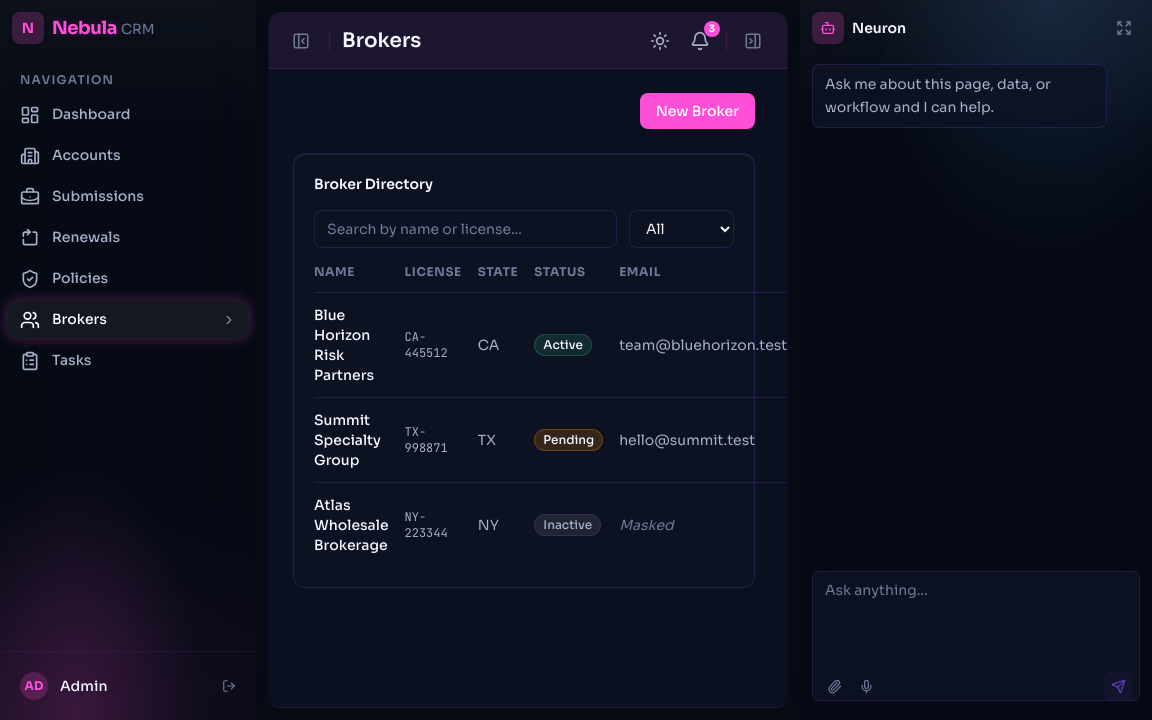
Test: BrokerListPage integration › loads brokers from the shared MSW harness and filters them by search and status
This screenshot has width=1152, height=720.
Expected: the heading "Broker Directory" is shown, 314,174 -> 433,194
Expected: the link "Blue Horizon Risk Partners" is shown, 314,306 -> 374,384
Type "summit" into the field named "Search brokers".
click(466, 229); type("summit")  # box 314,210 -> 617,248
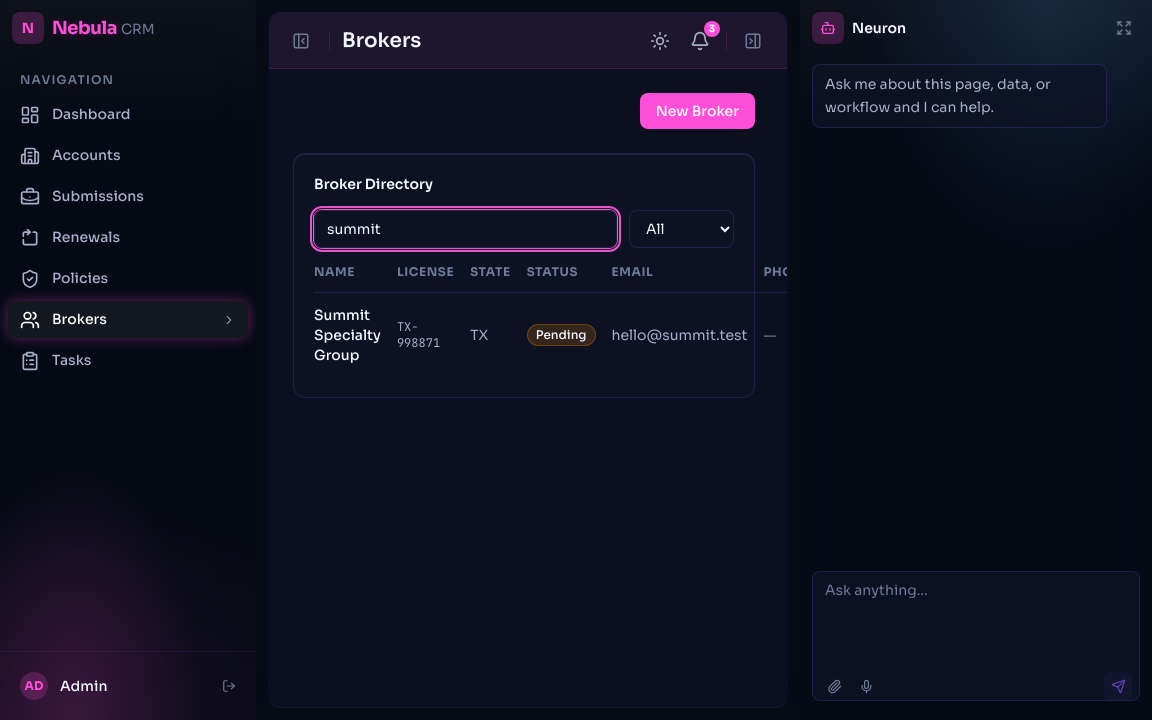
Expected: the link "Summit Specialty Group" is shown, 314,306 -> 381,364
Now the link "Blue Horizon Risk Partners" is gone
Clear the field named "Search brokers" at (466, 229), box 314,210 -> 617,248
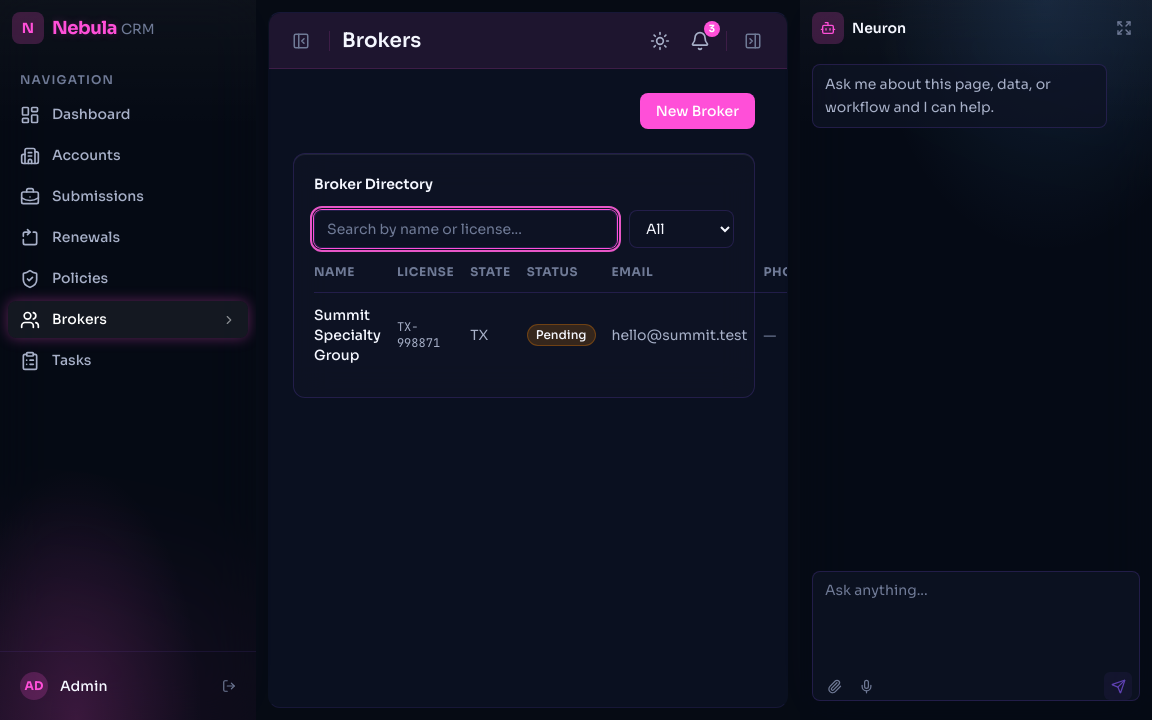
Select "Inactive" in the dropdown named "Filter brokers by status" at (682, 229), box 629,210 -> 734,248
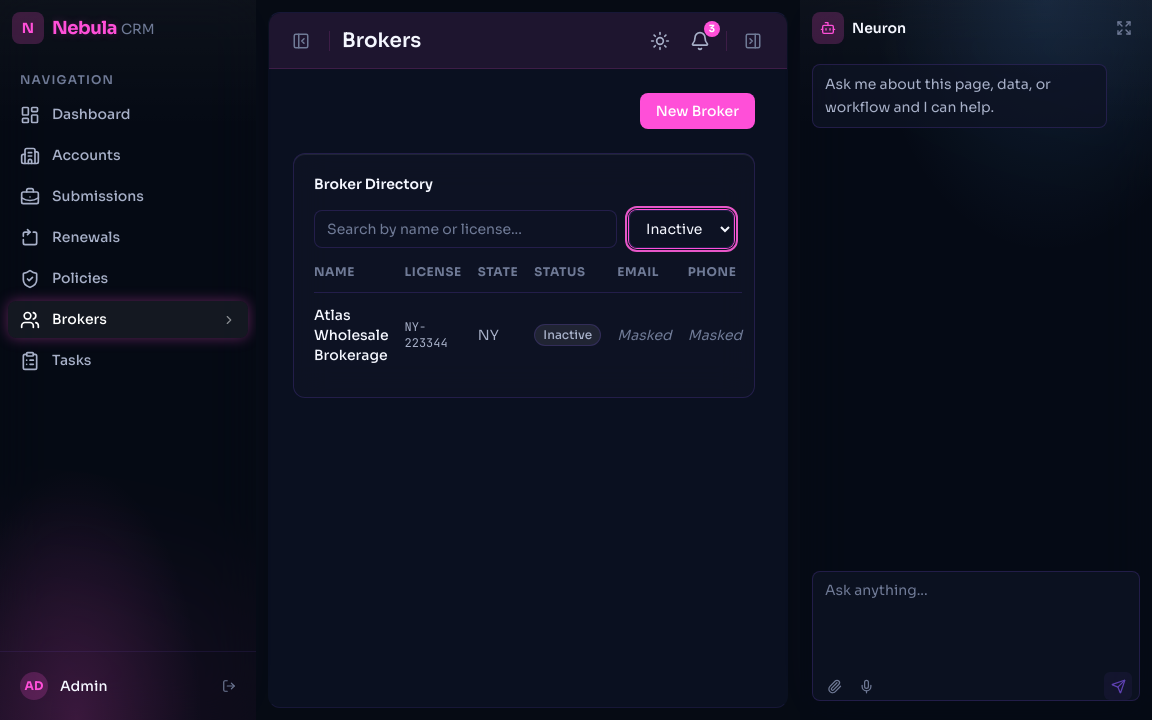
Now the link "Atlas Wholesale Brokerage" is shown, box 314,306 -> 388,364
Now no links "Summit Specialty Group" are shown
Now the 1st text "Masked" is shown, box 617,326 -> 672,344
